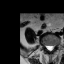CCS_normal: (49, 43, 51, 53)
LFS_normal: (54, 41, 56, 49)
LLS_normal: (51, 43, 54, 51)
RFS_normal: (44, 41, 46, 49)
RLS_normal: (46, 43, 49, 52)
